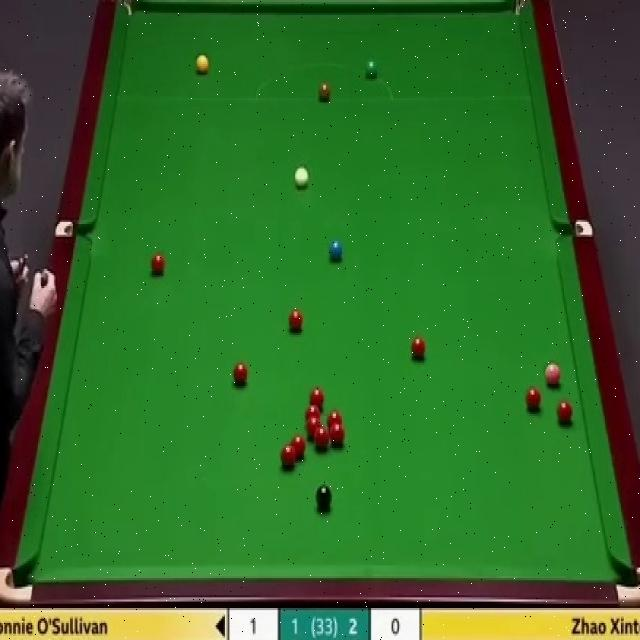black-ball: (315, 482, 332, 514)
blue-ball: (328, 238, 344, 260)
brown-ball: (318, 81, 331, 102)
green-ball: (364, 59, 378, 80)
pink-ball: (545, 360, 561, 388)
red-ball: (232, 360, 250, 390), (279, 444, 297, 470), (526, 386, 544, 412), (329, 423, 346, 449), (556, 400, 574, 424), (291, 437, 308, 462), (411, 335, 427, 361), (152, 252, 166, 278), (288, 310, 304, 332), (314, 426, 328, 450), (306, 418, 321, 438), (308, 388, 325, 405), (305, 403, 320, 421), (327, 412, 342, 427)
white-ball: (294, 163, 310, 191)
yellow-ball: (196, 55, 210, 76)
